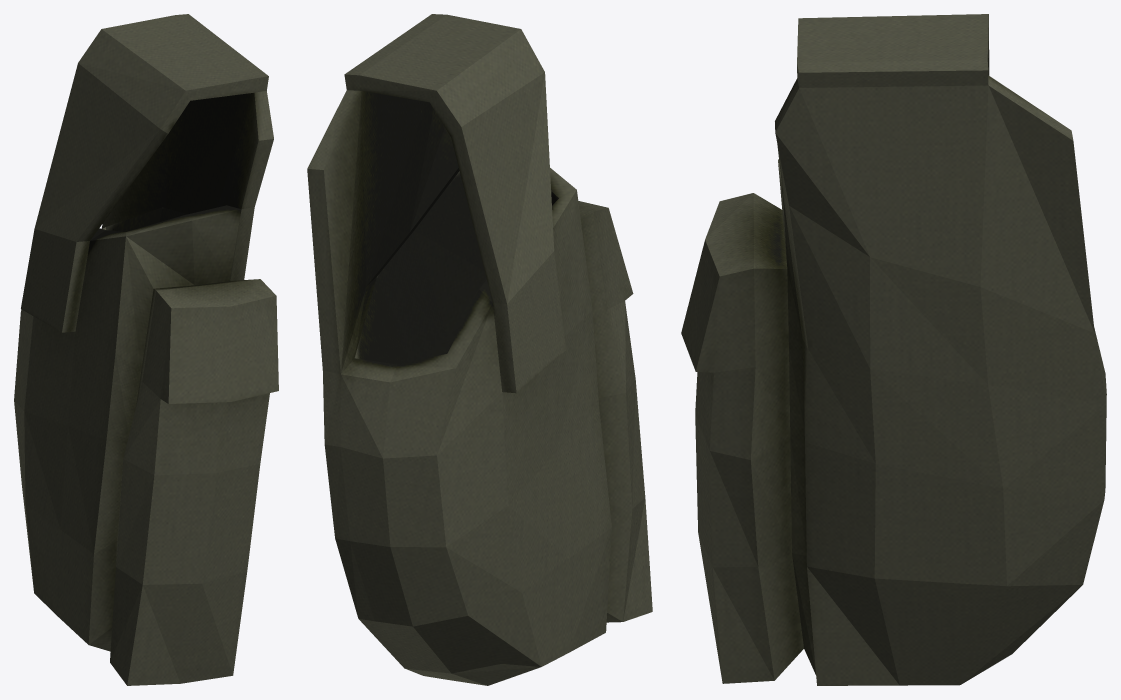
Rendered from holster_green.obj.
The picture shows the model from 3 angles, left to right: view 1: azimuth 30°, elevation 25°; view 2: azimuth 150°, elevation 25°; view 3: azimuth 270°, elevation 25°; orthographic projection. The views are drawn at different scales.
Visible parts, largest first — view 1: Default; view 2: Default; view 3: Default.
Boxes of the visible parts, box(x1,y1,x2,y2) form: Default: box(14, 14, 278, 685); Default: box(307, 14, 652, 685); Default: box(681, 14, 1106, 685).
Size of the model in its own units: 0.4716 by 1.46 by 0.851.
